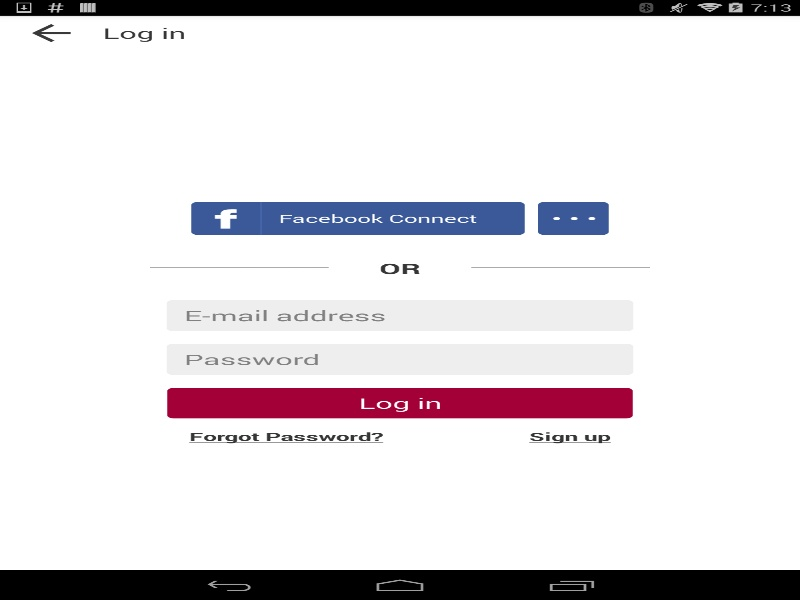Button: (166, 387, 633, 418)
Input: (166, 343, 633, 375), (166, 300, 633, 331)
